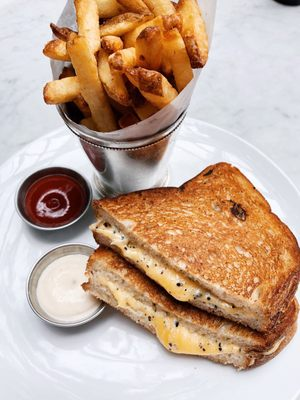sushi: (42, 0, 210, 196), (26, 244, 105, 327)
